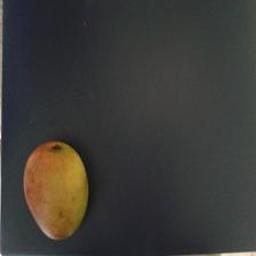Mango Semifresh: (15, 135, 101, 243)
